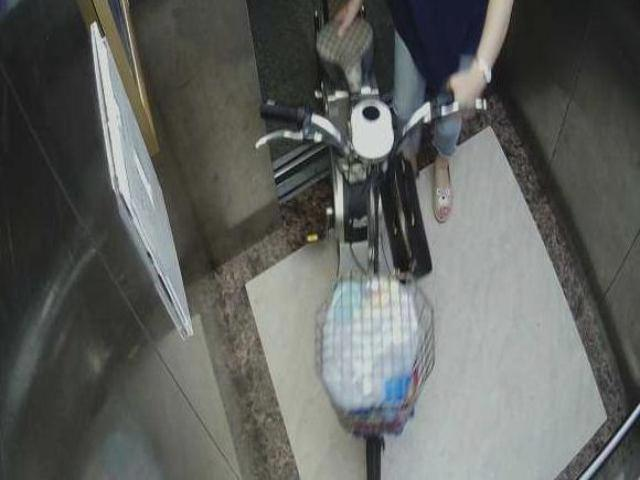emotor: (257, 1, 482, 477)
